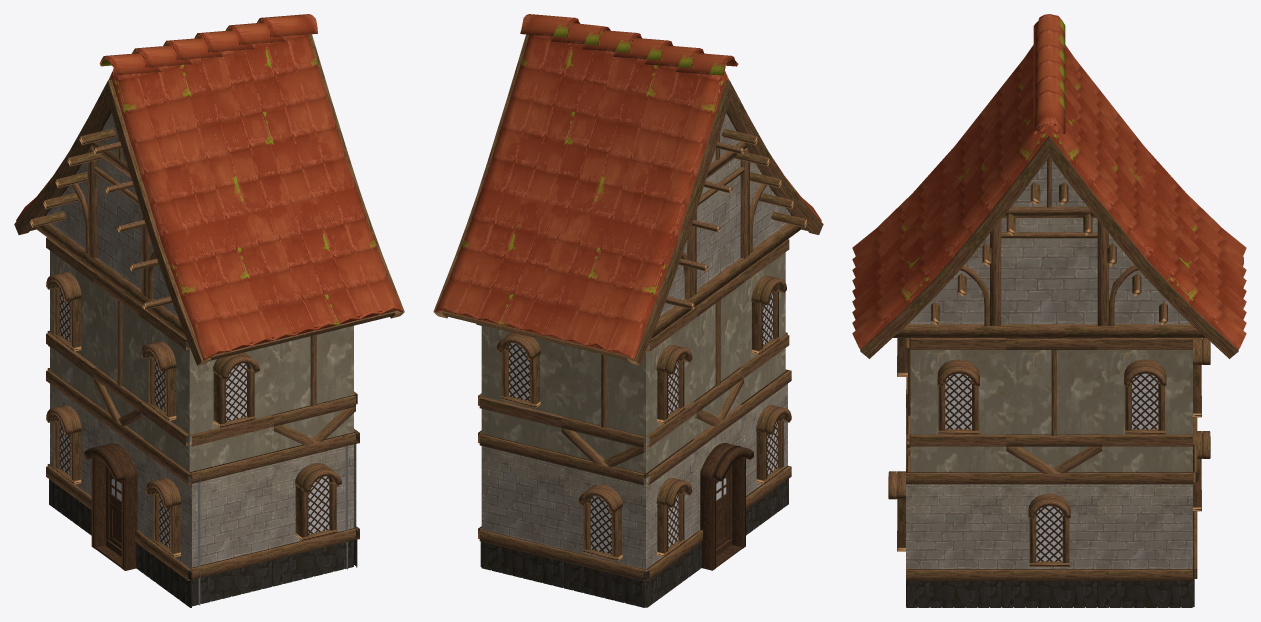
The model's file is Casa_alta2.obj.
3 renders of one model, left to right at view 1: azimuth 30°, elevation 25°; view 2: azimuth 150°, elevation 25°; view 3: azimuth 270°, elevation 25°, orthographic.
Visible parts, largest first — view 1: StaticMeshActor_314, StaticMeshActor_310, StaticMeshActor_316, StaticMeshActor_318, StaticMeshActor_317, StaticMeshActor_309, StaticMeshActor_319, StaticMeshActor_306, StaticMeshActor_308, StaticMeshActor_311, StaticMeshActor_305, StaticMeshActor_302 (+9 smaller); view 2: StaticMeshActor_314, StaticMeshActor_310, StaticMeshActor_332, StaticMeshActor_334, StaticMeshActor_333, StaticMeshActor_335, StaticMeshActor_309, StaticMeshActor_302, StaticMeshActor_311, StaticMeshActor_308, StaticMeshActor_306, StaticMeshActor_305 (+8 smaller); view 3: StaticMeshActor_314, StaticMeshActor_329, StaticMeshActor_322, StaticMeshActor_323, StaticMeshActor_326, StaticMeshActor_324, StaticMeshActor_327, StaticMeshActor_331, StaticMeshActor_328, StaticMeshActor_330, StaticMeshActor_325, StaticMeshActor_321 (+2 smaller).
Boxes of the visible parts, x1=… form: StaticMeshActor_314: x1=14, y1=14, x2=404, y2=365; StaticMeshActor_310: x1=29, y1=113, x2=186, y2=338; StaticMeshActor_316: x1=189, y1=452, x2=273, y2=606; StaticMeshActor_318: x1=272, y1=325, x2=355, y2=451; StaticMeshActor_317: x1=272, y1=432, x2=355, y2=586; StaticMeshActor_309: x1=93, y1=272, x2=144, y2=436; StaticMeshActor_319: x1=189, y1=345, x2=273, y2=471; StaticMeshActor_306: x1=141, y1=439, x2=203, y2=607; StaticMeshActor_308: x1=138, y1=306, x2=189, y2=471; StaticMeshActor_311: x1=46, y1=237, x2=97, y2=404; StaticMeshActor_305: x1=84, y1=443, x2=137, y2=570; StaticMeshActor_302: x1=46, y1=370, x2=97, y2=535; StaticMeshActor_314: x1=433, y1=14, x2=823, y2=365; StaticMeshActor_310: x1=651, y1=113, x2=807, y2=338; StaticMeshActor_332: x1=479, y1=434, x2=563, y2=587; StaticMeshActor_334: x1=561, y1=345, x2=645, y2=474; StaticMeshActor_333: x1=561, y1=454, x2=645, y2=607; StaticMeshActor_335: x1=479, y1=325, x2=563, y2=453; StaticMeshActor_309: x1=693, y1=272, x2=744, y2=438; StaticMeshActor_302: x1=646, y1=439, x2=696, y2=607; StaticMeshActor_311: x1=646, y1=307, x2=696, y2=473; StaticMeshActor_308: x1=738, y1=239, x2=789, y2=405; StaticMeshActor_306: x1=740, y1=370, x2=791, y2=535; StaticMeshActor_305: x1=700, y1=443, x2=753, y2=570; StaticMeshActor_314: x1=852, y1=14, x2=1246, y2=358; StaticMeshActor_329: x1=893, y1=157, x2=1205, y2=337; StaticMeshActor_322: x1=906, y1=466, x2=1001, y2=607; StaticMeshActor_323: x1=1097, y1=472, x2=1192, y2=607; StaticMeshActor_326: x1=1006, y1=338, x2=1101, y2=473; StaticMeshActor_324: x1=1001, y1=472, x2=1097, y2=607; StaticMeshActor_327: x1=910, y1=338, x2=1006, y2=472; StaticMeshActor_331: x1=1097, y1=338, x2=1192, y2=472; StaticMeshActor_328: x1=937, y1=359, x2=979, y2=434; StaticMeshActor_330: x1=1124, y1=359, x2=1166, y2=434; StaticMeshActor_325: x1=1028, y1=493, x2=1070, y2=566; StaticMeshActor_321: x1=888, y1=471, x2=905, y2=551.
Bounding box in the file's own units: 559 × 1171 × 825.
